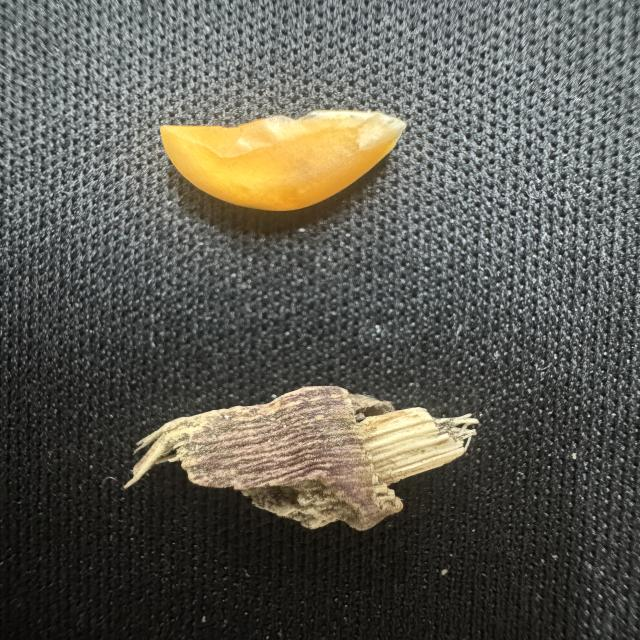Bad-Seed: (107, 370, 486, 540), (146, 103, 421, 238)
